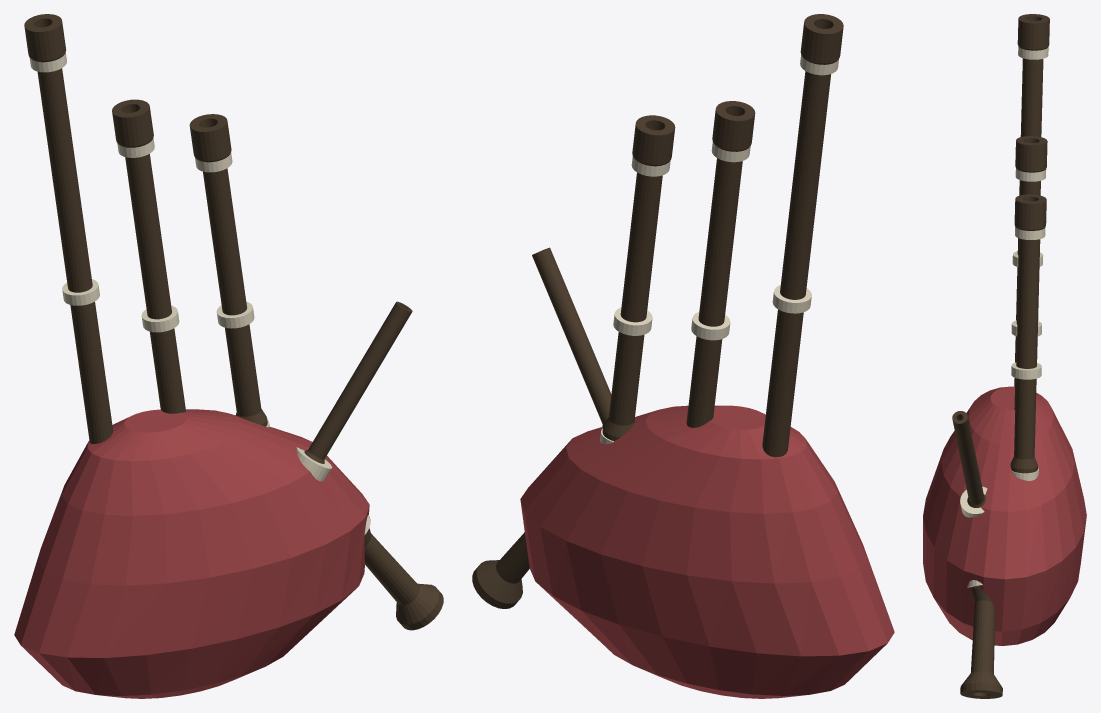
3 views of the same model, side by side, from view 1: azimuth 30°, elevation 25°; view 2: azimuth 150°, elevation 25°; view 3: azimuth 270°, elevation 25° (orthographic). The views are drawn at different scales.
Parts seen in each view (by area): view 1: WholeAsymmetricInflatedBagGroundSole, WholeOpenMouthDrone_01, WholeOpenMouthDrone_02, WholeOpenMouthDrone_03, WholeFixedBlowpipeWithRecessedMouth, WholeFixedDownwardChanterExterior; view 2: WholeAsymmetricInflatedBagGroundSole, WholeOpenMouthDrone_01, WholeOpenMouthDrone_02, WholeOpenMouthDrone_03, WholeFixedBlowpipeWithRecessedMouth, WholeFixedDownwardChanterExterior, Drone_02_WholeCollar_02, Drone_01_WholeCollar_02, Drone_03_WholeCollar_02; view 3: WholeAsymmetricInflatedBagGroundSole, WholeOpenMouthDrone_03, WholeOpenMouthDrone_01, WholeFixedDownwardChanterExterior, WholeOpenMouthDrone_02, WholeFixedBlowpipeWithRecessedMouth, Drone_03_WholeCollar_02, WholeBlowpipeStockCollar, Drone_02_WholeCollar_03, Drone_01_WholeCollar_03, Drone_03_WholeCollar_03.
Boxes of the visible parts, box(x1,y1,x2,y2) form: WholeAsymmetricInflatedBagGroundSole: box(14, 409, 369, 698); WholeOpenMouthDrone_01: box(24, 14, 113, 443); WholeOpenMouthDrone_02: box(112, 99, 185, 413); WholeOpenMouthDrone_03: box(189, 114, 267, 426); WholeFixedBlowpipeWithRecessedMouth: box(304, 301, 412, 463); WholeFixedDownwardChanterExterior: box(364, 528, 443, 630); WholeAsymmetricInflatedBagGroundSole: box(520, 405, 894, 698); WholeOpenMouthDrone_01: box(762, 14, 843, 457); WholeOpenMouthDrone_02: box(686, 101, 755, 427); WholeOpenMouthDrone_03: box(602, 115, 675, 440); WholeFixedBlowpipeWithRecessedMouth: box(532, 247, 611, 426); WholeFixedDownwardChanterExterior: box(472, 532, 529, 608); Drone_02_WholeCollar_02: box(691, 312, 730, 340); Drone_01_WholeCollar_02: box(772, 285, 811, 313); Drone_03_WholeCollar_02: box(613, 307, 652, 335); WholeAsymmetricInflatedBagGroundSole: box(923, 386, 1086, 645); WholeOpenMouthDrone_03: box(1010, 194, 1046, 473); WholeOpenMouthDrone_01: box(1014, 14, 1049, 386); WholeFixedDownwardChanterExterior: box(960, 586, 1002, 698); WholeOpenMouthDrone_02: box(1014, 136, 1047, 410); WholeFixedBlowpipeWithRecessedMouth: box(952, 411, 985, 507); Drone_03_WholeCollar_02: box(1011, 362, 1041, 379); WholeBlowpipeStockCollar: box(960, 486, 987, 517); Drone_02_WholeCollar_03: box(1015, 168, 1046, 181); Drone_01_WholeCollar_03: box(1018, 46, 1048, 59); Drone_03_WholeCollar_03: box(1015, 226, 1045, 239).
Size of the model in its own units: 0.6399 by 1 by 0.27.
